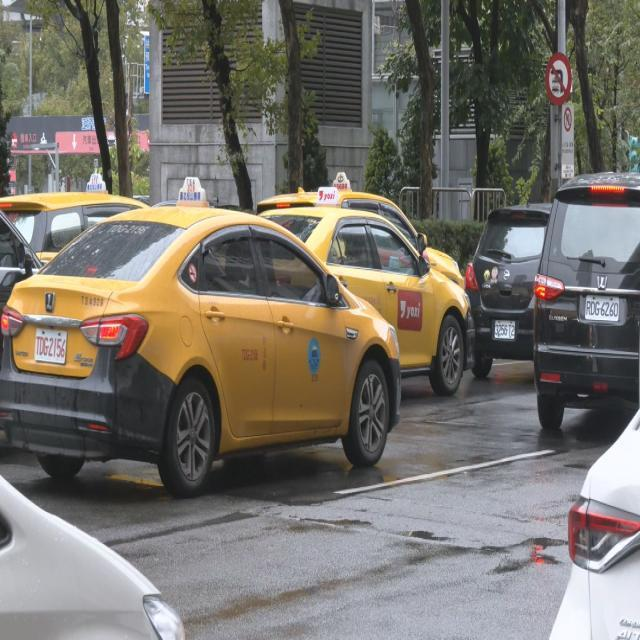taxi: (1, 197, 409, 531), (270, 186, 498, 394), (6, 175, 136, 257)
